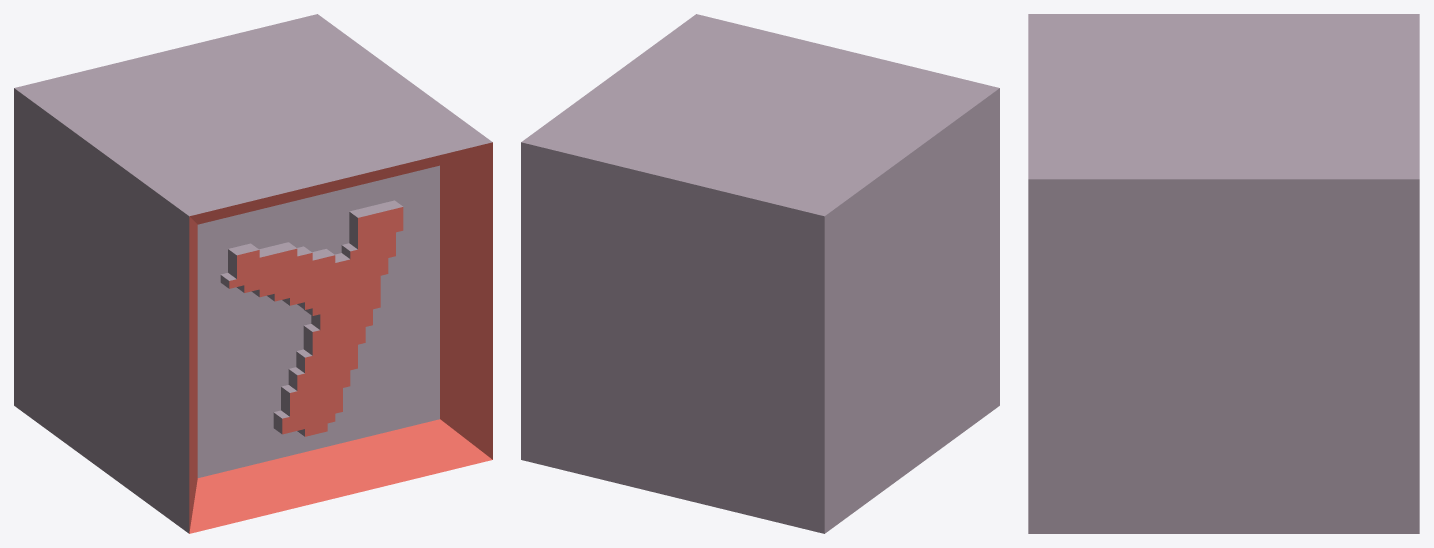
File: BlockY.fbx
3 renders of one model, left to right at view 1: azimuth 30°, elevation 25°; view 2: azimuth 150°, elevation 25°; view 3: azimuth 270°, elevation 25°, orthographic. The views are drawn at different scales.
Visible parts, largest first — view 1: Cube; view 2: Cube; view 3: Cube.
Part boxes in pixels (x1,y1,x2,y2): Cube: [14, 14, 492, 533]; Cube: [521, 14, 999, 533]; Cube: [1028, 14, 1419, 533].
Bounding box in the file's own units: 2000 × 2000 × 2000.
